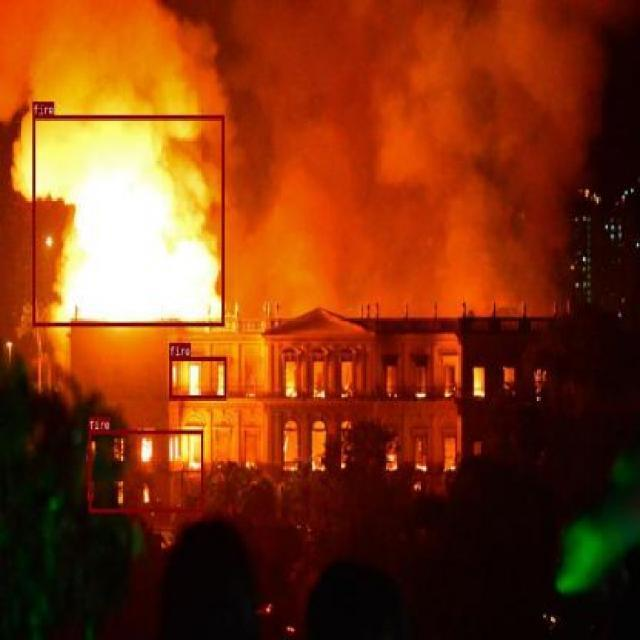Fire: (31, 114, 224, 326), (88, 430, 204, 512), (169, 356, 226, 398)
Smoke: (223, 3, 610, 326), (0, 0, 231, 117)
